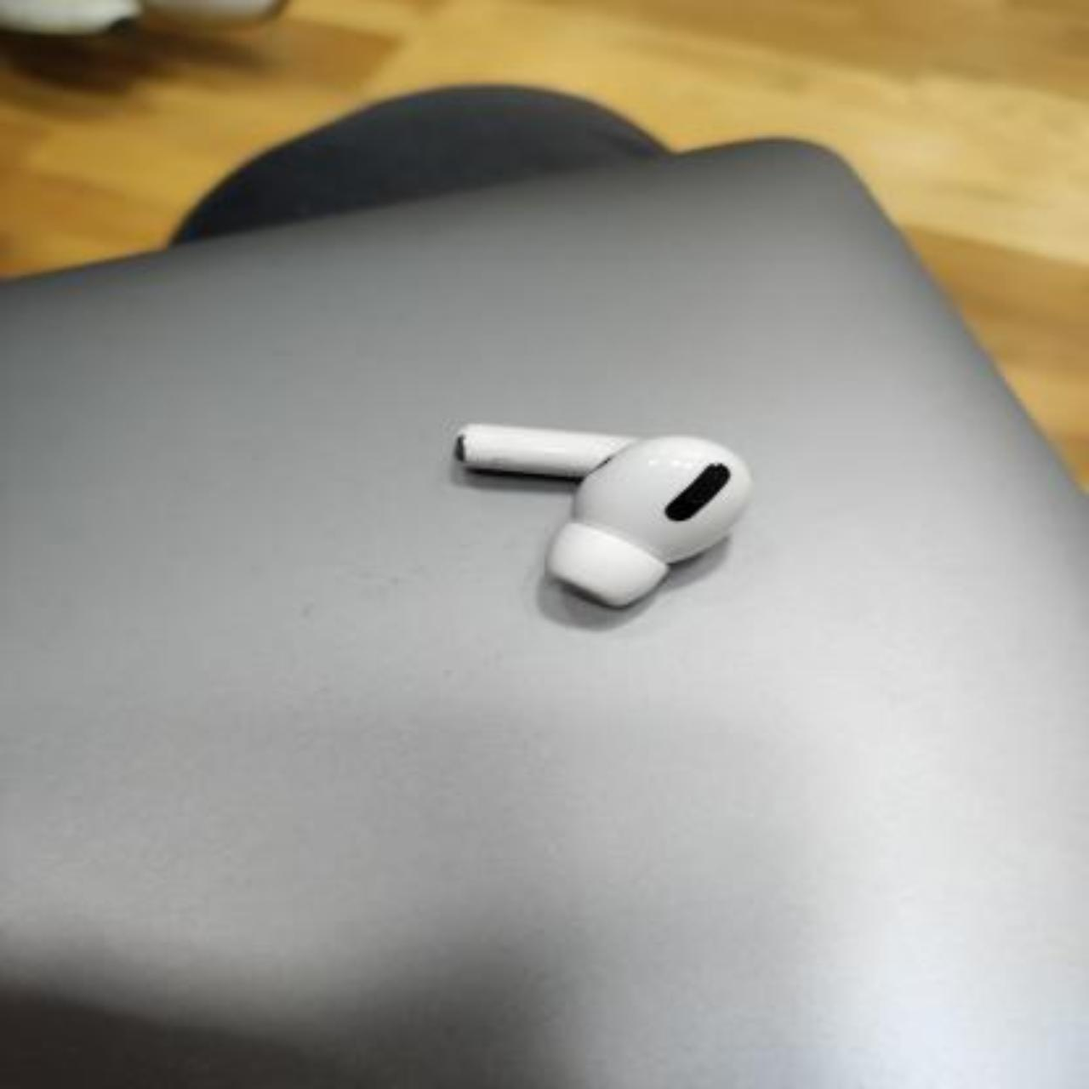Airpods_Units: (435, 416, 772, 636)
